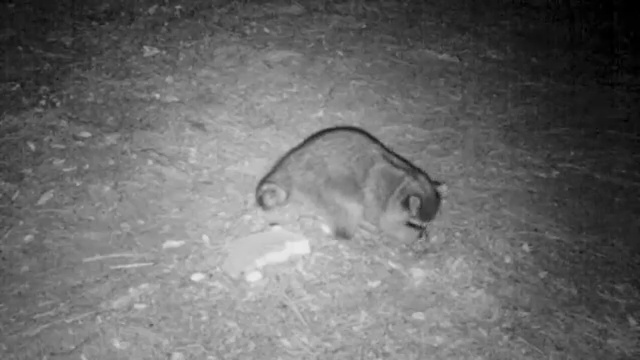raccoon: (249, 121, 450, 256)
